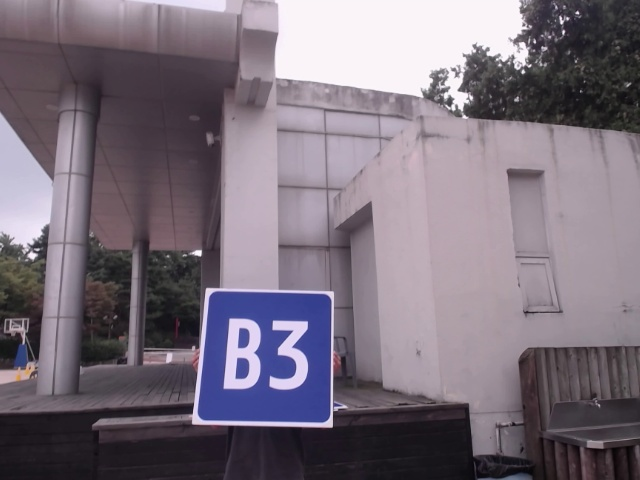delivery_b3: (198, 291, 332, 425)
